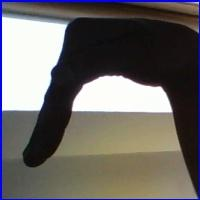A: (20, 14, 185, 177)
